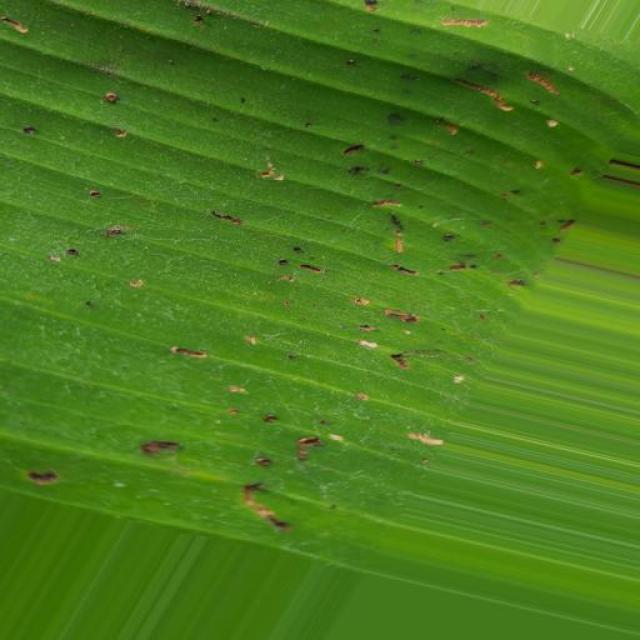Black_rot: (0, 3, 640, 538)
